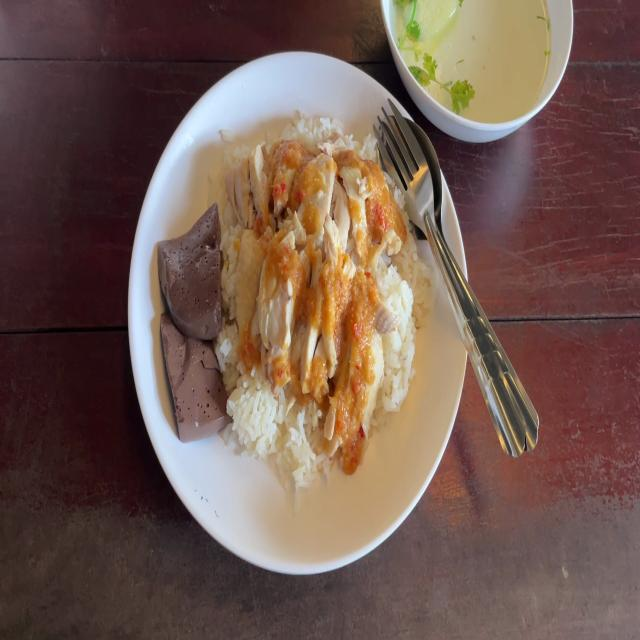chicken_rice: (224, 154, 369, 376)
noodle: (158, 306, 230, 437), (160, 209, 219, 336)
